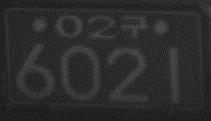0: (59, 45, 101, 102), (56, 13, 83, 39)
1: (157, 46, 192, 103)
2: (106, 46, 151, 104), (87, 14, 116, 39)
6: (16, 43, 56, 100)
구: (120, 15, 149, 39)
